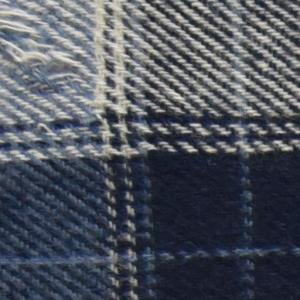Damage: (1, 1, 101, 104)
